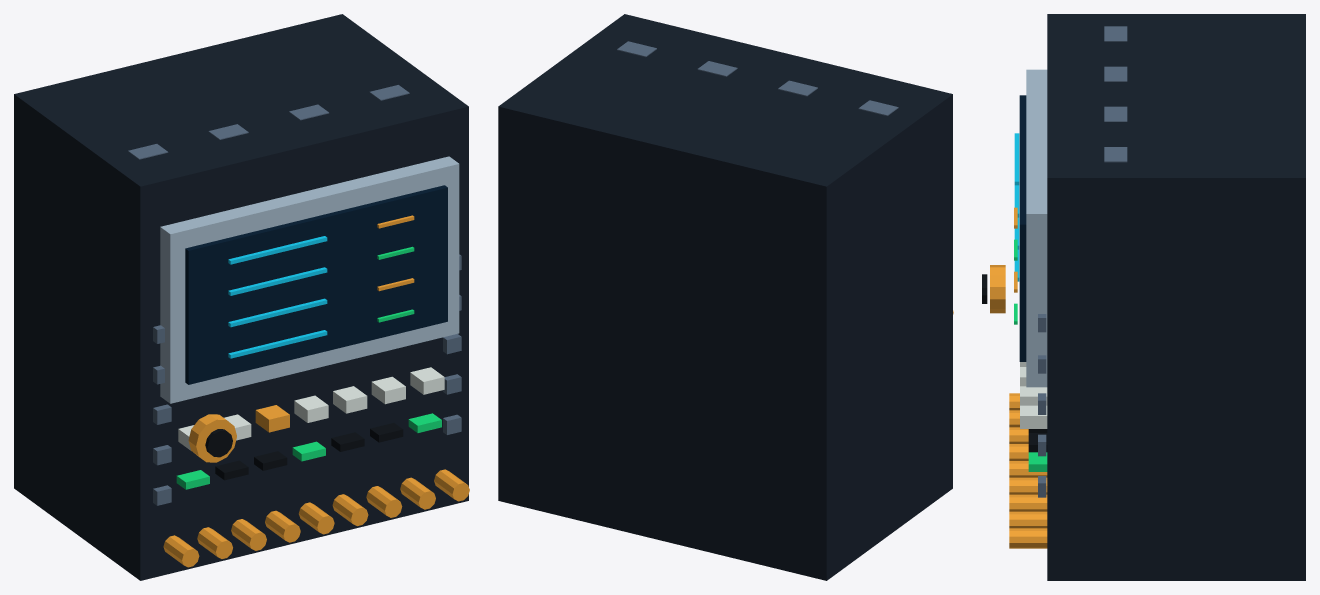
Rendered from 85_L88_MissionOccupancyDemandSimulator.fbx.
The picture shows the model from 3 angles, left to right: view 1: azimuth 30°, elevation 25°; view 2: azimuth 150°, elevation 25°; view 3: azimuth 270°, elevation 25°; orthographic projection. The views are drawn at different scales.
Parts seen in each view (by area): view 1: L87_MissionOccupancyDemandSimulator_Part_0000, L87_MissionOccupancyDemandSimulator_Part_0002, L87_MissionOccupancyDemandSimulator_Part_0001, L87_MissionOccupancyDemandSimulator_Part_0004, L87_MissionOccupancyDemandSimulator_Part_0008, L87_MissionOccupancyDemandSimulator_Part_0006, L87_MissionOccupancyDemandSimulator_Part_0003, L87_MissionOccupancyDemandSimulator_Part_0007, L87_MissionOccupancyDemandSimulator_Part_0005, L87_MissionOccupancyDemandSimulator_Part_0009, L87_MissionOccupancyDemandSimulator_Part_0010; view 2: L87_MissionOccupancyDemandSimulator_Part_0000, L87_MissionOccupancyDemandSimulator_Part_0008; view 3: L87_MissionOccupancyDemandSimulator_Part_0000, L87_MissionOccupancyDemandSimulator_Part_0001, L87_MissionOccupancyDemandSimulator_Part_0004, L87_MissionOccupancyDemandSimulator_Part_0008, L87_MissionOccupancyDemandSimulator_Part_0002, L87_MissionOccupancyDemandSimulator_Part_0006, L87_MissionOccupancyDemandSimulator_Part_0009, L87_MissionOccupancyDemandSimulator_Part_0003, L87_MissionOccupancyDemandSimulator_Part_0005.
Boxes of the visible parts, bbox=[...] form: L87_MissionOccupancyDemandSimulator_Part_0000: bbox=[14, 14, 468, 580]; L87_MissionOccupancyDemandSimulator_Part_0002: bbox=[185, 185, 447, 384]; L87_MissionOccupancyDemandSimulator_Part_0001: bbox=[160, 156, 459, 403]; L87_MissionOccupancyDemandSimulator_Part_0004: bbox=[163, 215, 469, 567]; L87_MissionOccupancyDemandSimulator_Part_0008: bbox=[128, 85, 461, 505]; L87_MissionOccupancyDemandSimulator_Part_0006: bbox=[178, 367, 444, 450]; L87_MissionOccupancyDemandSimulator_Part_0003: bbox=[228, 236, 327, 358]; L87_MissionOccupancyDemandSimulator_Part_0007: bbox=[215, 423, 403, 480]; L87_MissionOccupancyDemandSimulator_Part_0005: bbox=[176, 246, 441, 489]; L87_MissionOccupancyDemandSimulator_Part_0009: bbox=[188, 414, 236, 462]; L87_MissionOccupancyDemandSimulator_Part_0010: bbox=[205, 429, 232, 457]; L87_MissionOccupancyDemandSimulator_Part_0000: bbox=[498, 14, 952, 580]; L87_MissionOccupancyDemandSimulator_Part_0008: bbox=[617, 41, 898, 115]; L87_MissionOccupancyDemandSimulator_Part_0000: bbox=[1047, 14, 1305, 580]; L87_MissionOccupancyDemandSimulator_Part_0001: bbox=[1026, 69, 1047, 387]; L87_MissionOccupancyDemandSimulator_Part_0004: bbox=[1009, 207, 1047, 548]; L87_MissionOccupancyDemandSimulator_Part_0008: bbox=[1038, 26, 1127, 497]; L87_MissionOccupancyDemandSimulator_Part_0002: bbox=[1019, 95, 1026, 361]; L87_MissionOccupancyDemandSimulator_Part_0006: bbox=[1020, 362, 1047, 428]; L87_MissionOccupancyDemandSimulator_Part_0009: bbox=[990, 265, 1005, 313]; L87_MissionOccupancyDemandSimulator_Part_0003: bbox=[1014, 133, 1019, 281]; L87_MissionOccupancyDemandSimulator_Part_0005: bbox=[1014, 239, 1047, 471].
Size of the model in its own units: 104 by 120 by 86.88.
